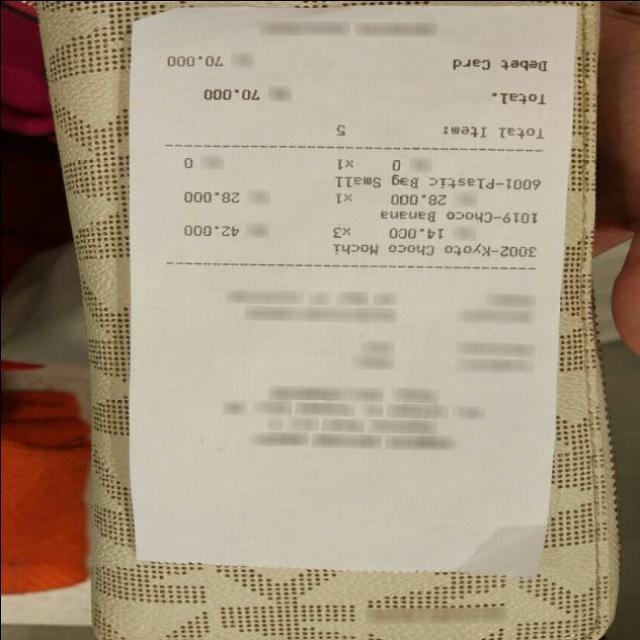kertas: (122, 1, 576, 576)
